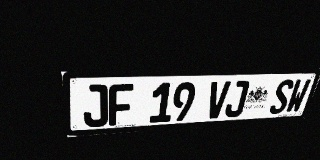1: (149, 82, 175, 123)
9: (171, 82, 197, 121)
F: (109, 84, 133, 126)
J: (82, 84, 108, 128), (223, 80, 250, 118)
S: (268, 79, 295, 114)
V: (205, 81, 231, 119)
W: (284, 79, 311, 113)
